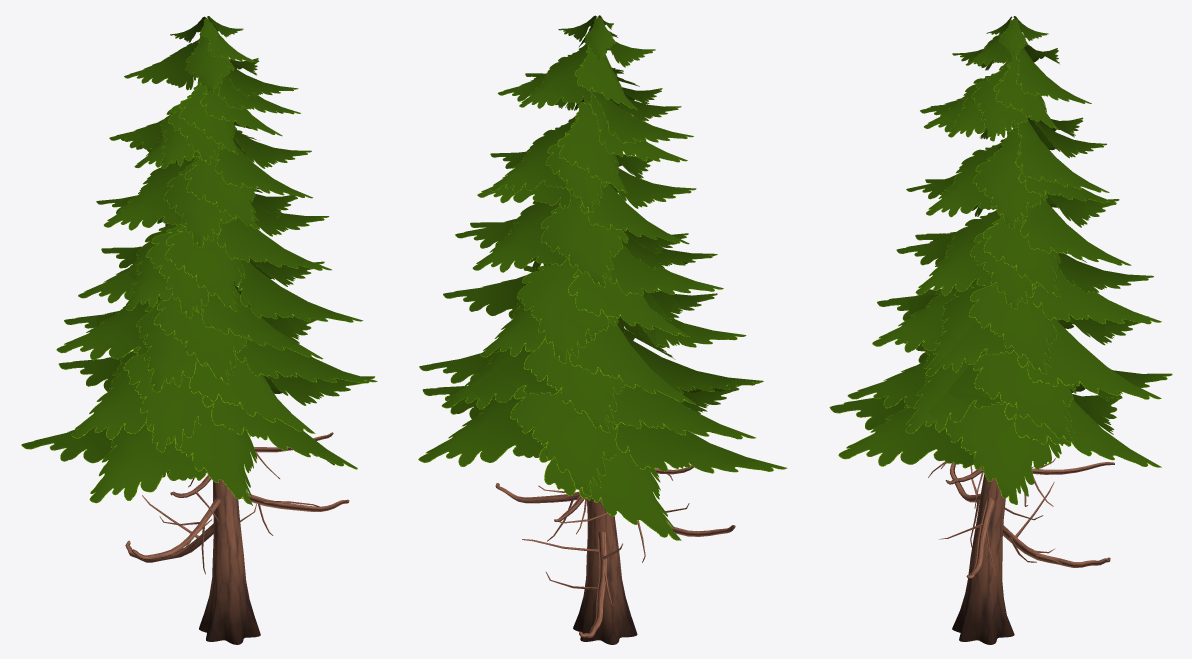
The model's file is Pine_4.gltf.
3 views of the same model, side by side, from view 1: azimuth 30°, elevation 25°; view 2: azimuth 150°, elevation 25°; view 3: azimuth 270°, elevation 25° (orthographic). The views are drawn at different scales.
Visible parts, largest first — view 1: Pine_4; view 2: Pine_4; view 3: Pine_4.
Boxes of the visible parts, box(x1,y1,x2,y2) form: Pine_4: box(21, 16, 377, 644); Pine_4: box(418, 15, 787, 644); Pine_4: box(829, 16, 1172, 644).
Size of the model in its own units: 5.8 by 10.24 by 5.37.
Materials: 2 (2 with a texture image).
